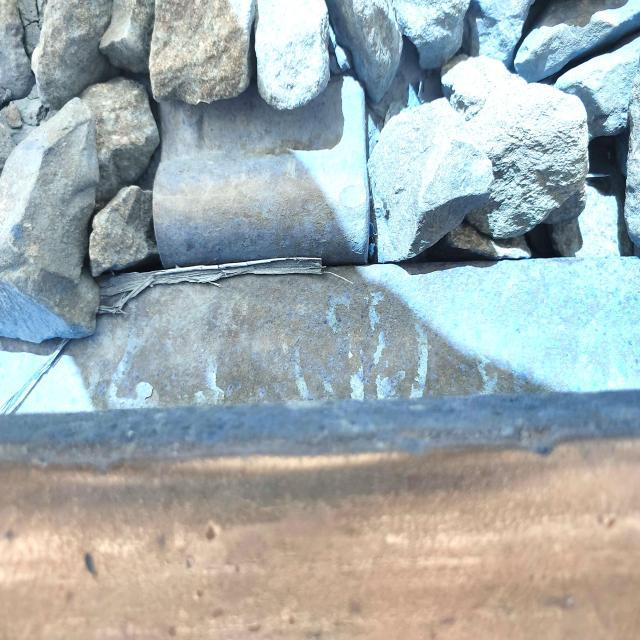Missing Fastener: (151, 74, 381, 286)
